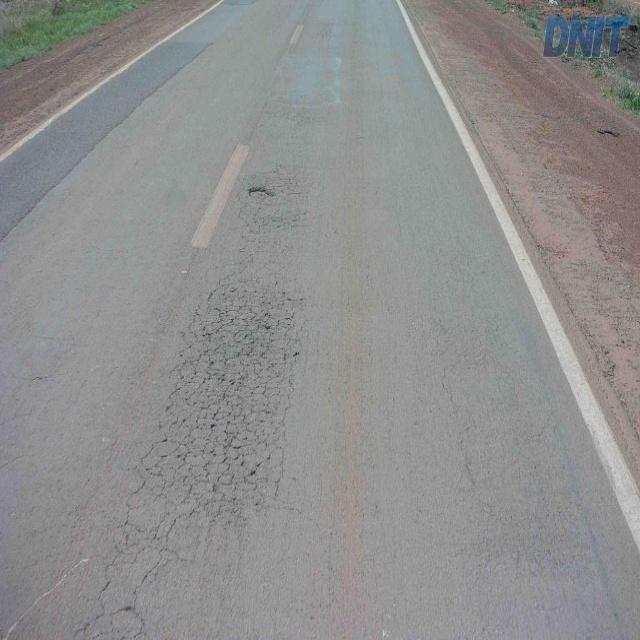pothole: (144, 285, 300, 529), (248, 182, 276, 201)
